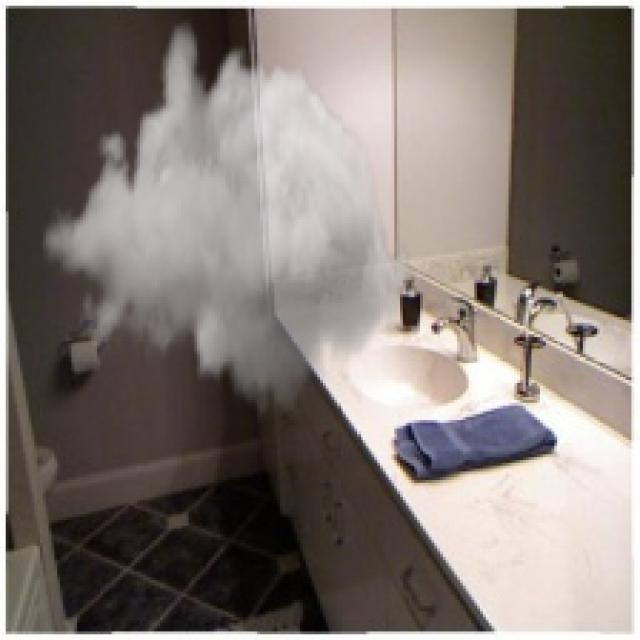smoke: (40, 17, 414, 423)
